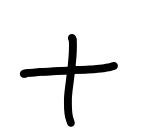plus: (20, 34, 118, 126)
